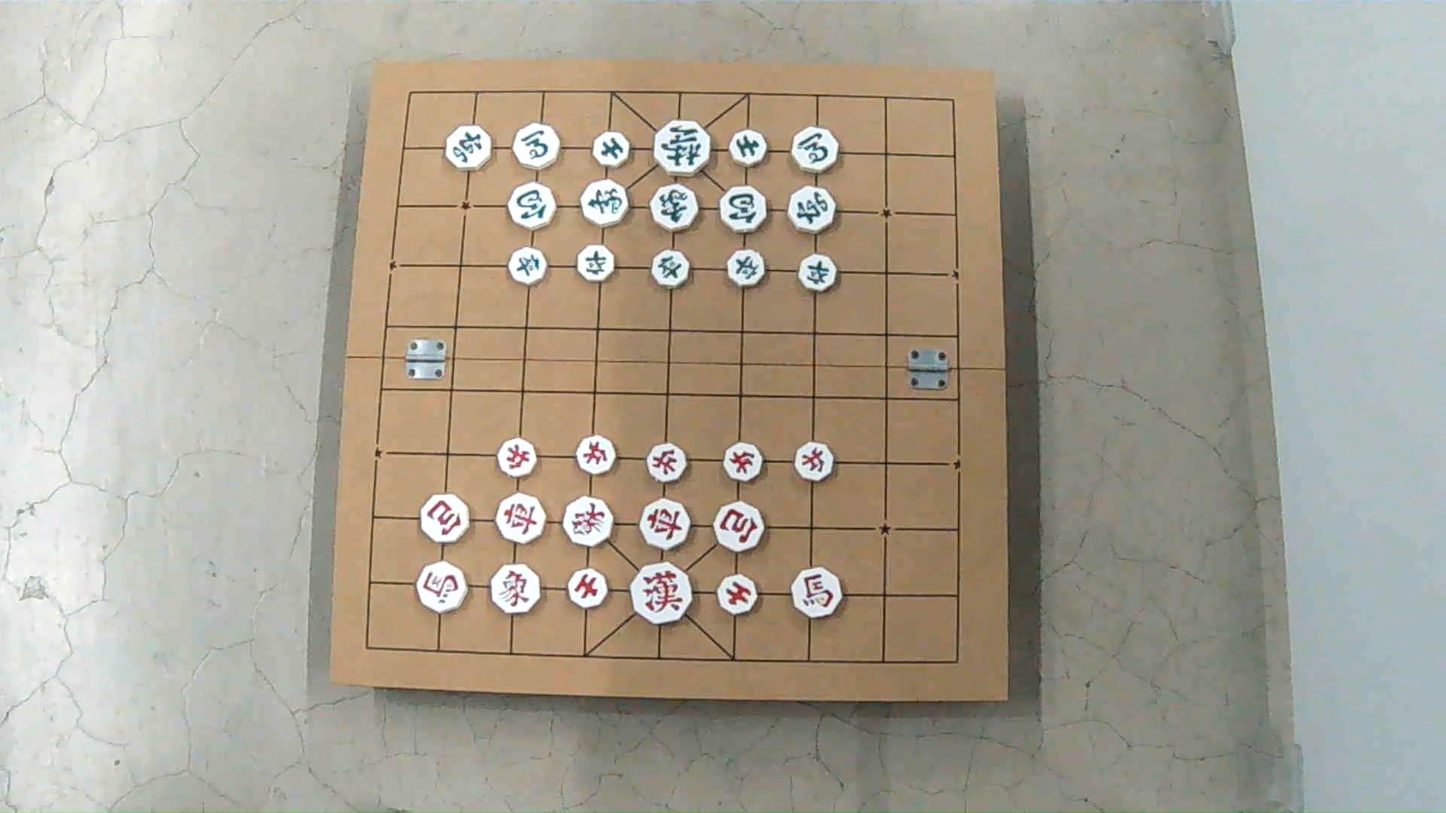cha_green: (789, 186, 838, 233), (445, 125, 493, 170)
cha_red: (496, 493, 547, 544), (640, 499, 691, 549)
jol_green: (508, 246, 547, 284), (651, 250, 690, 288), (728, 249, 766, 287), (799, 254, 837, 291), (577, 245, 615, 282)
jol_red: (647, 443, 687, 483), (723, 442, 763, 482), (497, 438, 538, 477), (795, 442, 834, 481), (576, 435, 615, 474)
ma_green: (792, 126, 840, 172), (513, 123, 561, 169)
ma_red: (416, 561, 468, 612), (792, 567, 841, 617)
po_green: (719, 184, 768, 233), (508, 182, 556, 229)
po_red: (714, 501, 765, 552), (420, 493, 471, 543)
sa_green: (729, 129, 768, 166), (591, 131, 631, 167)
sa_red: (718, 574, 757, 615), (569, 568, 608, 607)
sang_green: (650, 183, 700, 231), (580, 179, 629, 227)
sang_red: (490, 564, 541, 613), (563, 497, 613, 546)
wang_green: (654, 120, 711, 175)
wang_red: (631, 562, 692, 623)
